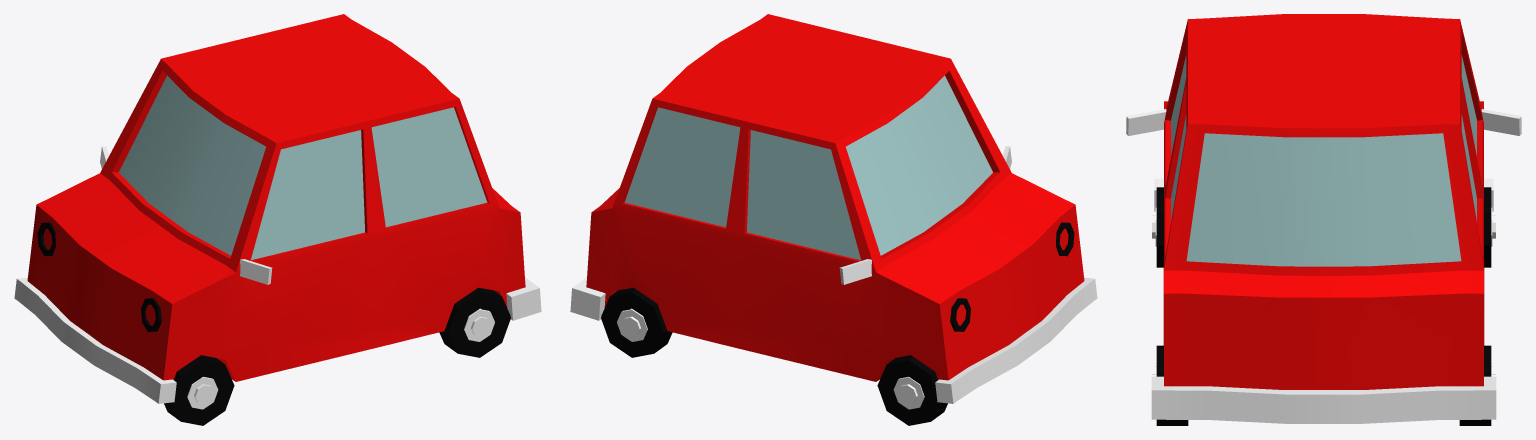
Rendered from Car.fbx.
3 renders of one model, left to right at view 1: azimuth 30°, elevation 25°; view 2: azimuth 150°, elevation 25°; view 3: azimuth 270°, elevation 25°, orthographic. The views are drawn at different scales.
Parts seen in each view (by area): view 1: car; view 2: car; view 3: car.
Boxes of the visible parts, left/top/right/bottom form: car: left=14, top=14, right=541, bottom=425; car: left=570, top=14, right=1097, bottom=425; car: left=1126, top=14, right=1521, bottom=425.
Size of the model in its own units: 17.82 by 10.78 by 13.03.
